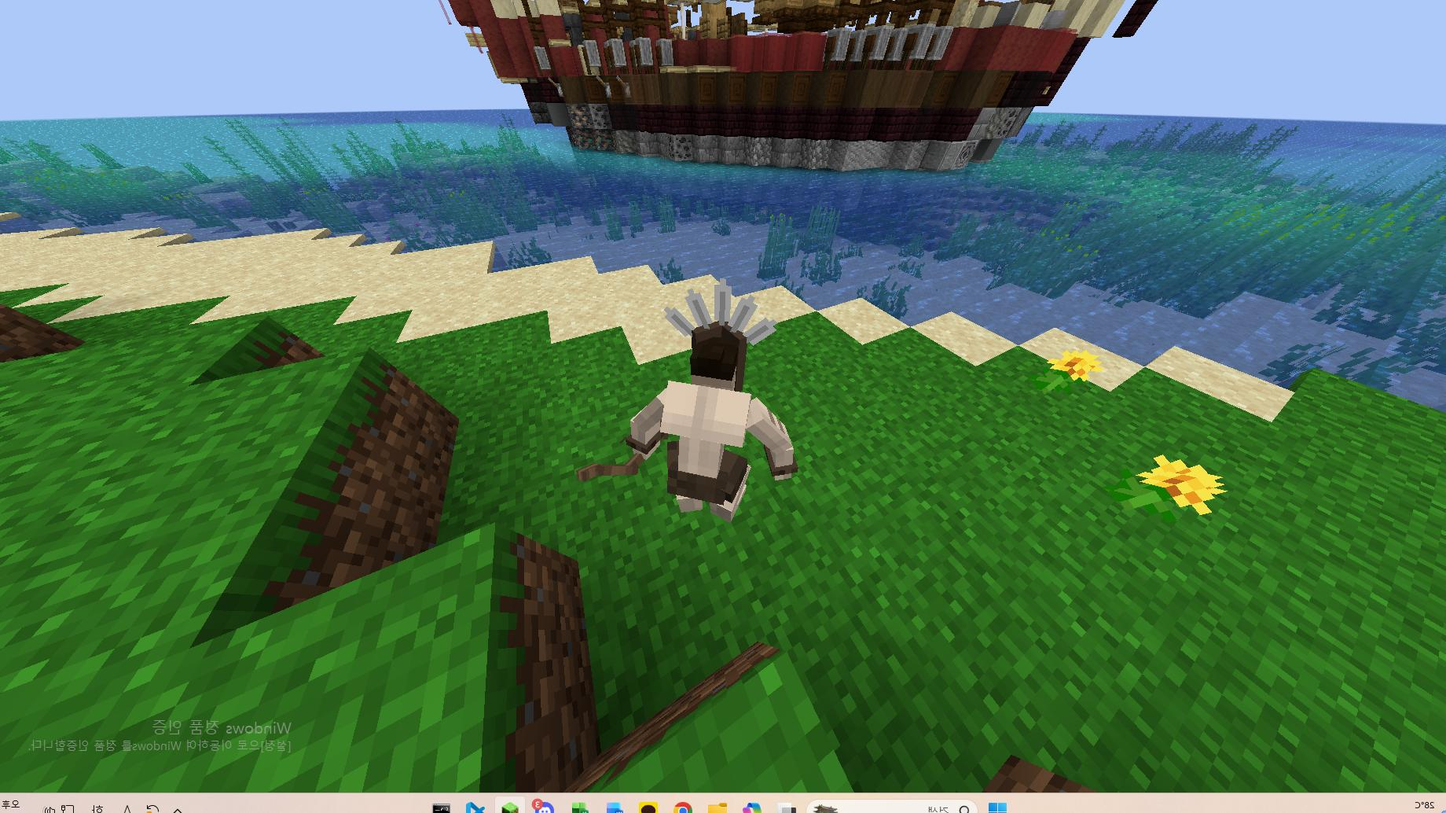bow_indian: (567, 291, 816, 553)
